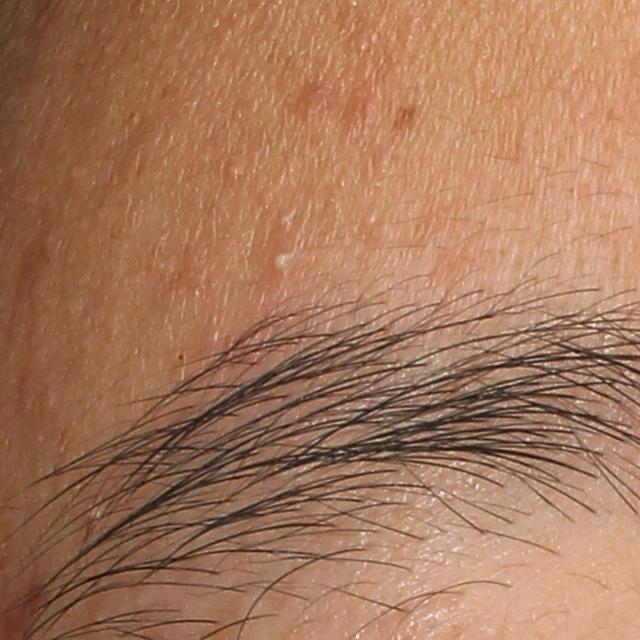comedo: (224, 159, 242, 182), (361, 212, 376, 227)
papule: (293, 84, 325, 114)
pustule: (263, 241, 298, 287)
